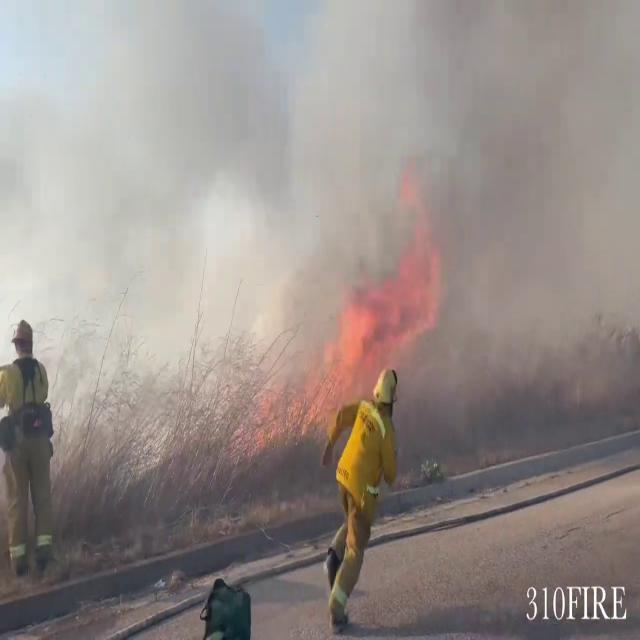Fire: (276, 216, 452, 444)
Smoke: (125, 0, 640, 450)
